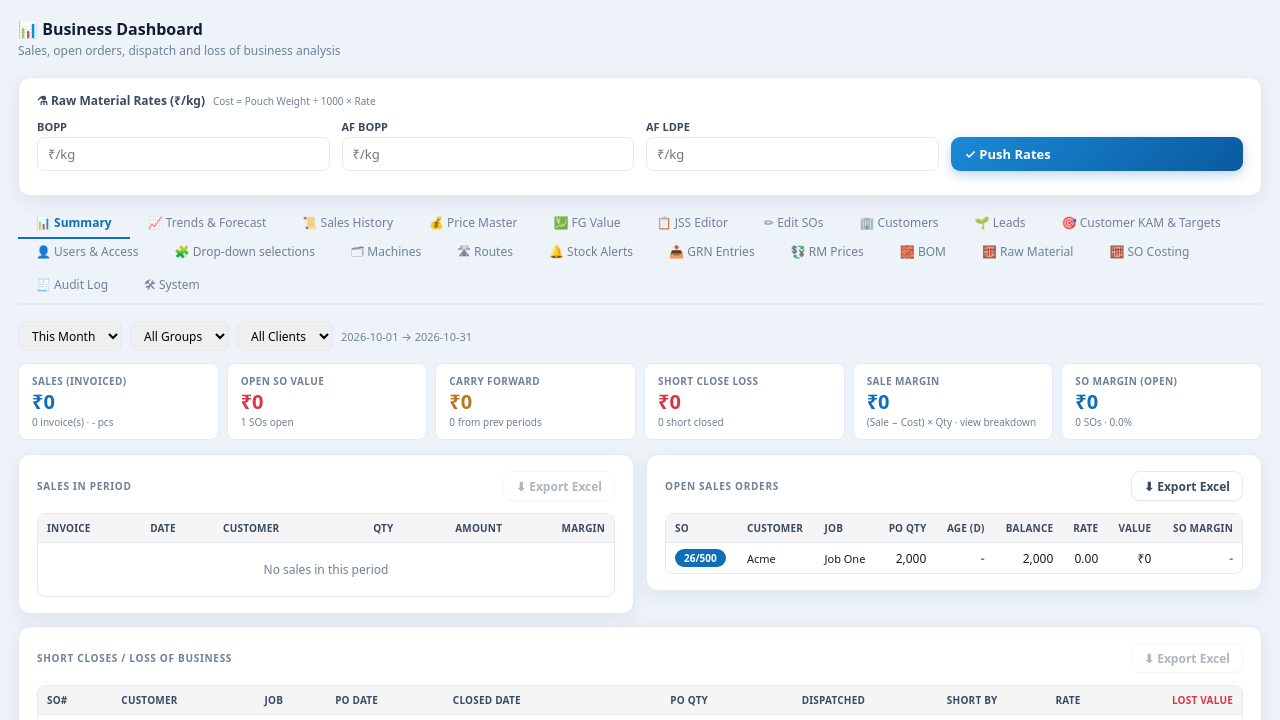
Dashboard — BOM and Raw Material tabs › saves an edited BOM to module 13
Step 1. Click the text "🧱 BOM" → (923, 252), box [900, 243, 946, 260]
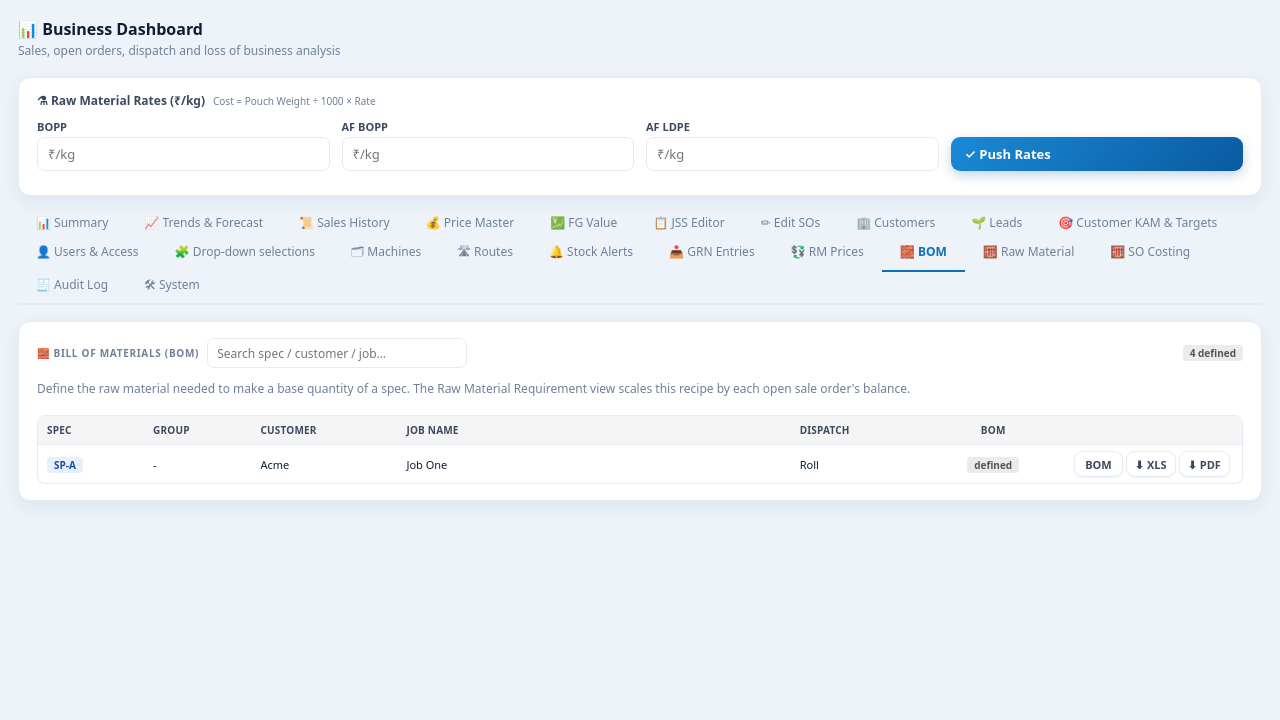
Step 2. Click the button with aria-label "Edit BOM for SP-A" → (1098, 464), box [1074, 451, 1123, 477]
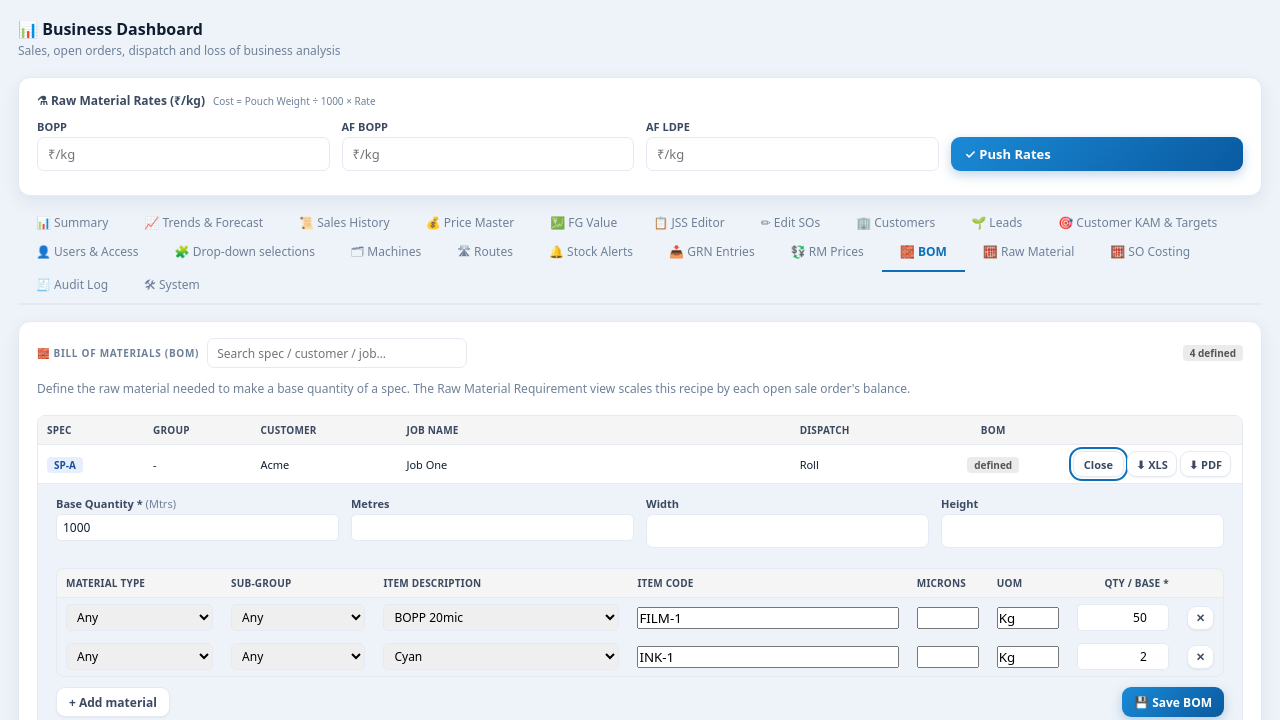
Step 3. Replace the text in the number field named "Qty per base row 1" with "60" → (1123, 618), box [1077, 604, 1169, 631]
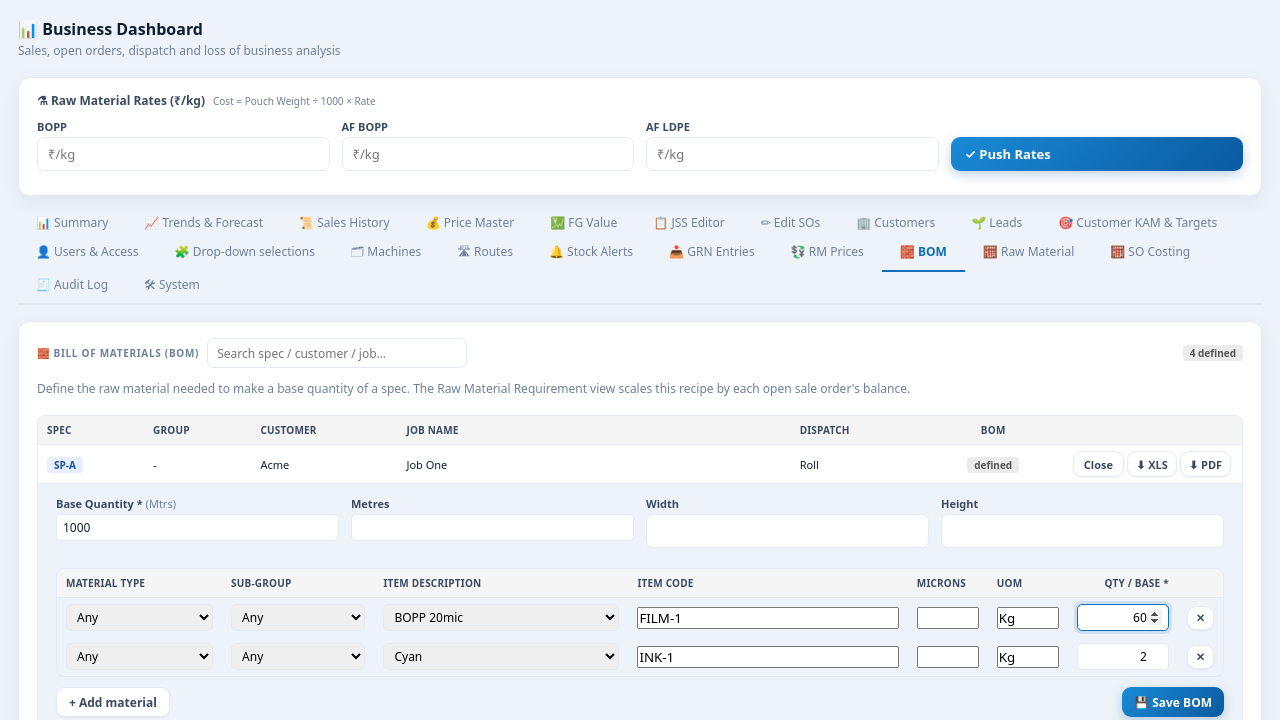
Step 4. Click the button "💾 Save BOM" → (1173, 702), box [1122, 687, 1224, 717]
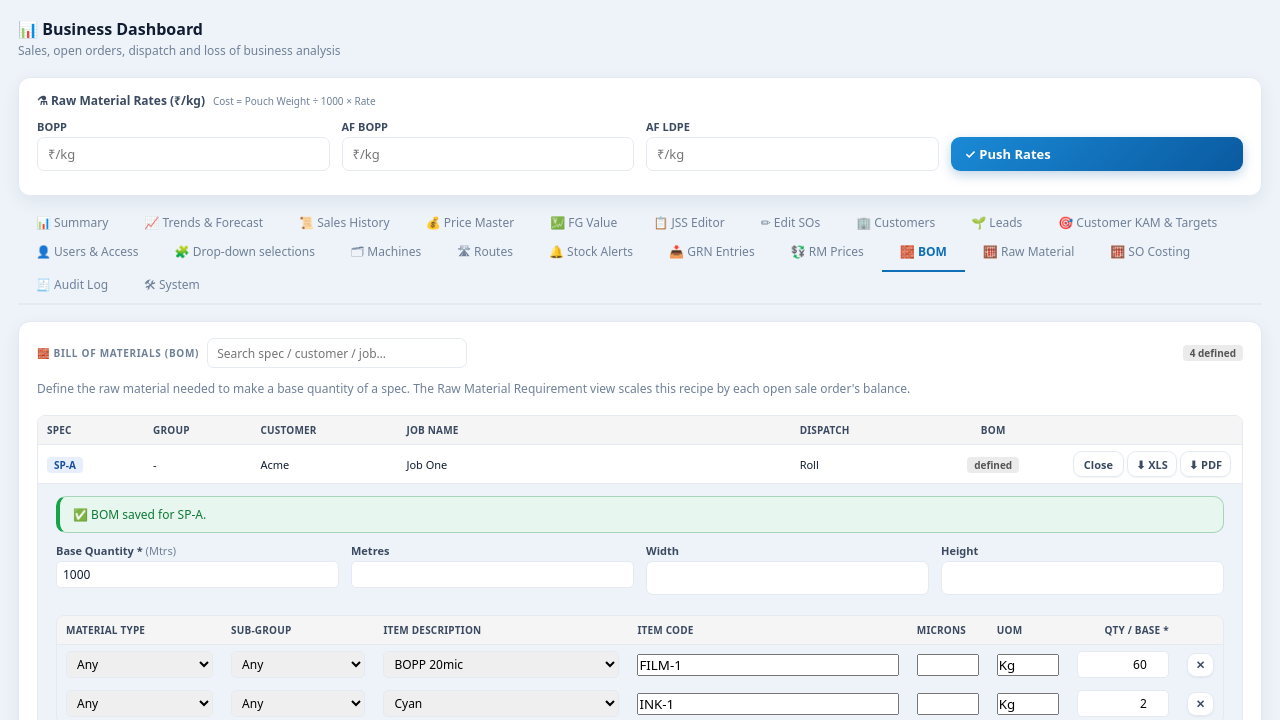
Check: the text "✅ BOM saved for SP-A." is shown, box [56, 496, 1224, 533]
